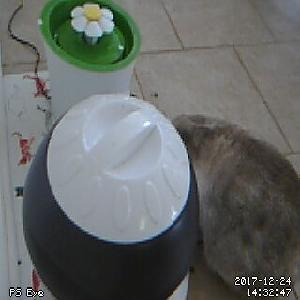cat: (167, 113, 300, 300)
fountain: (38, 1, 141, 73)
